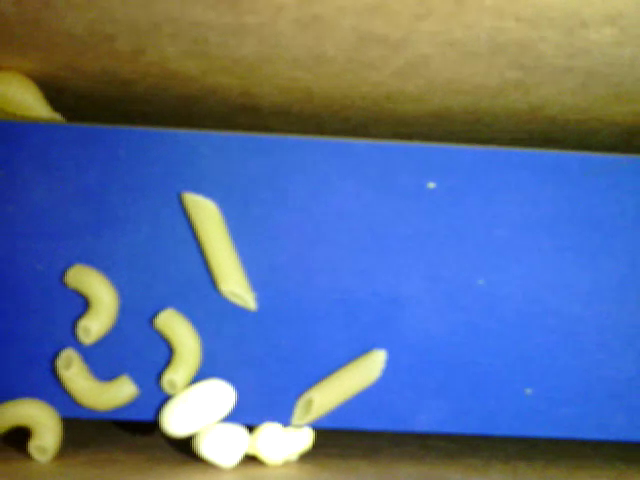elbow: (52, 348, 142, 412), (149, 307, 203, 394), (63, 265, 118, 344), (4, 396, 62, 464)
penne: (175, 189, 257, 314), (288, 347, 390, 428)
shell: (2, 68, 70, 125)
